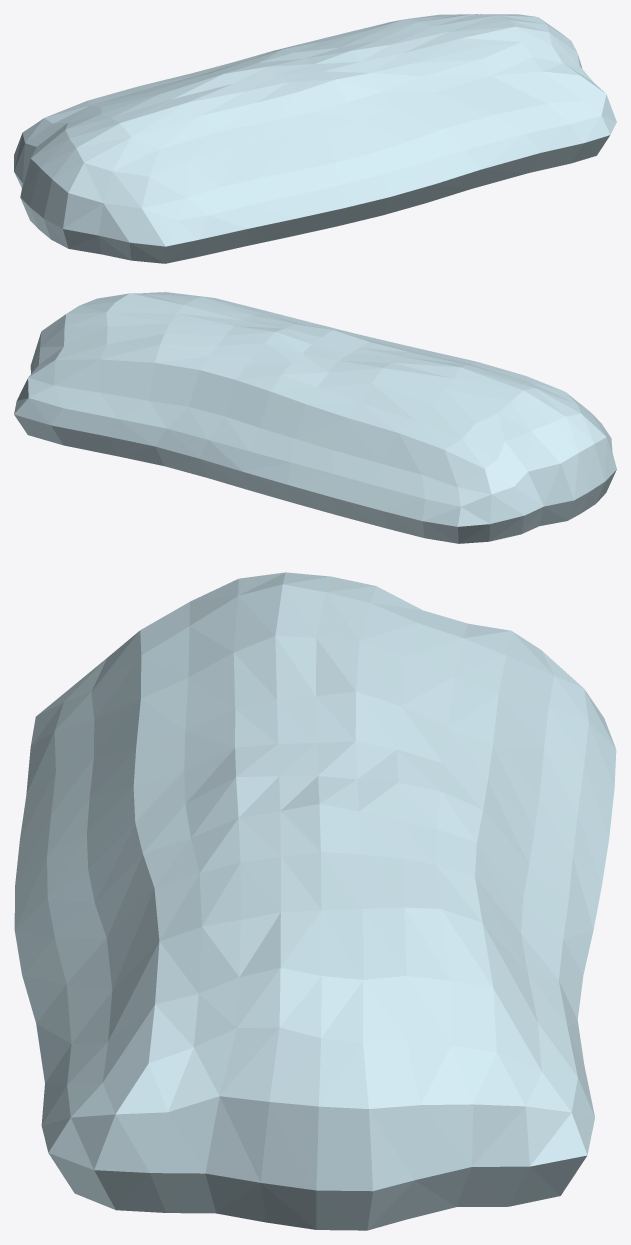
File: SM_Env_Dirt_Mound_03_Snow.fbx
The picture shows the model from 3 angles, top to bottom: view 1: azimuth 30°, elevation 25°; view 2: azimuth 150°, elevation 25°; view 3: azimuth 270°, elevation 25°; orthographic projection. The views are drawn at different scales.
Parts seen in each view (by area): view 1: SM_Env_Dirt_Mound_03_Snow; view 2: SM_Env_Dirt_Mound_03_Snow; view 3: SM_Env_Dirt_Mound_03_Snow.
Boxes of the visible parts, x1,y1,x2,y2 form: SM_Env_Dirt_Mound_03_Snow: (14, 14, 616, 263); SM_Env_Dirt_Mound_03_Snow: (14, 292, 616, 543); SM_Env_Dirt_Mound_03_Snow: (14, 572, 616, 1230).
Size of the model in its own units: 1400 by 255 by 664.
